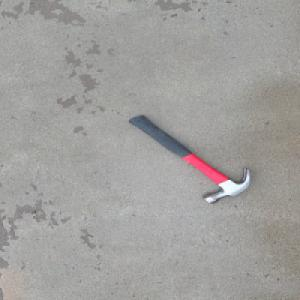Hammer: (126, 114, 253, 205)
